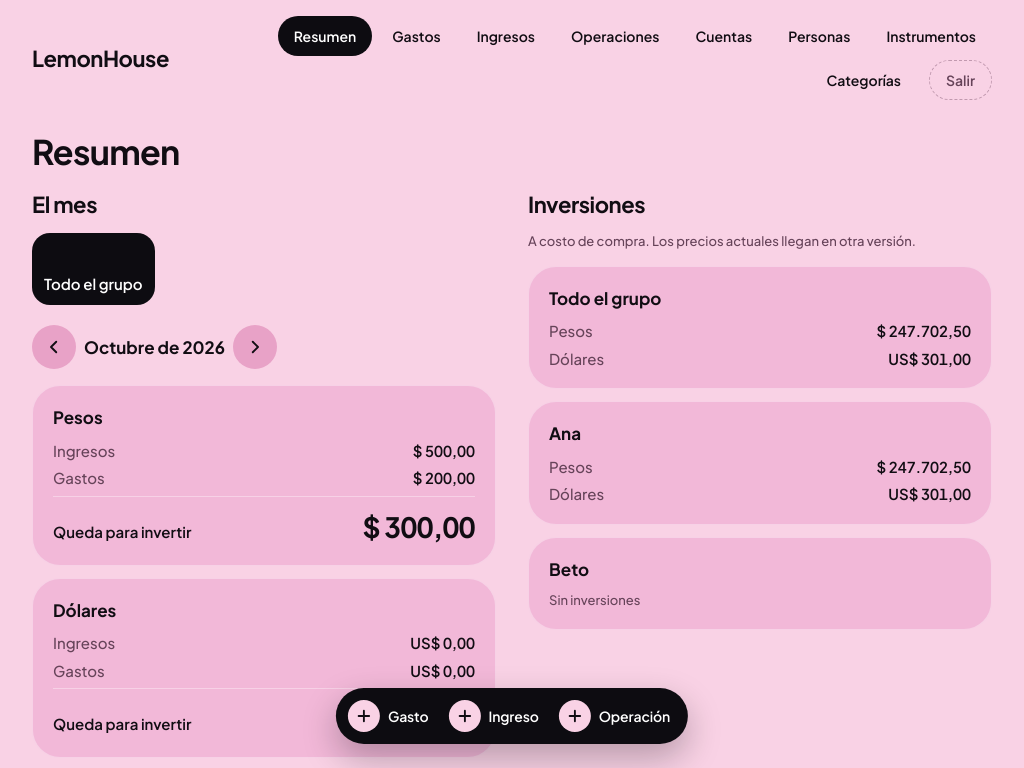
Test case: resumen › arranca en el mes actual y cambia al elegir otro (C22)
Click the button named "Mes anterior" at (54,348), box [32, 326, 76, 370]
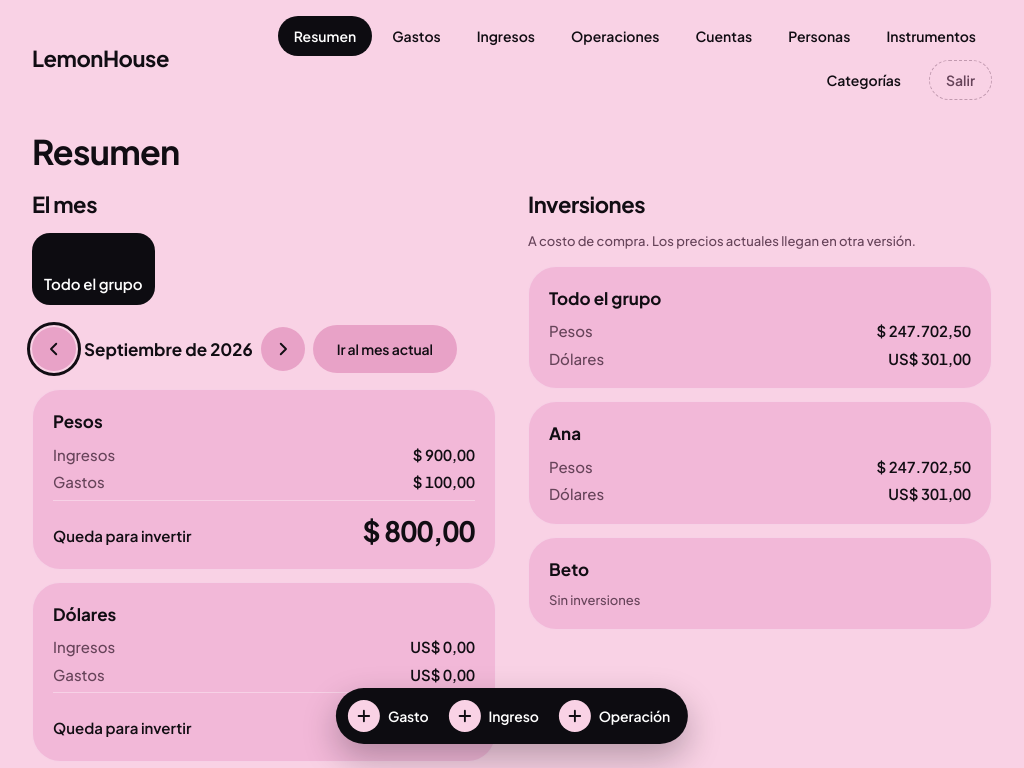
Expected: the text "$ 800,00" is shown, [362, 513, 475, 548]
